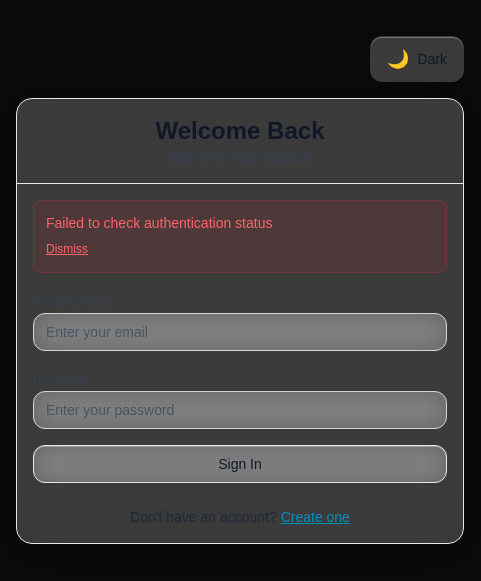
it: Home Page › validates password input
Expected: the password field with placeholder "Enter your password" is shown, [33,391,447,429]
What coordinates should you click on to do the following:
click the button "Sign In"
I would click on:
 (240, 464)
Its box is [33,445,447,483].
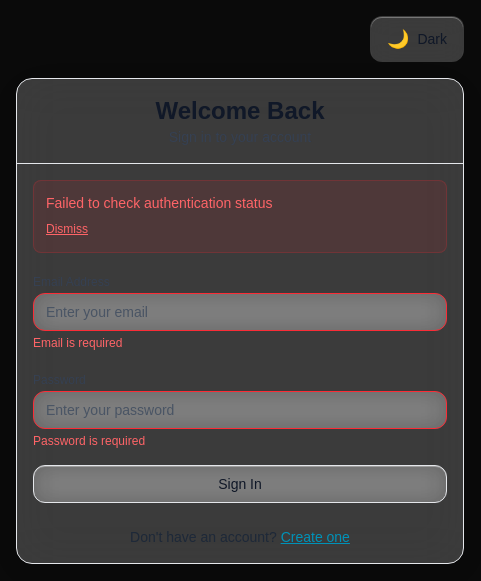
Expected: the text "Password is required" is shown, [33,434,145,448]
